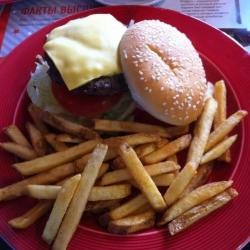burger: (28, 22, 206, 130)
fries: (18, 125, 223, 218)
